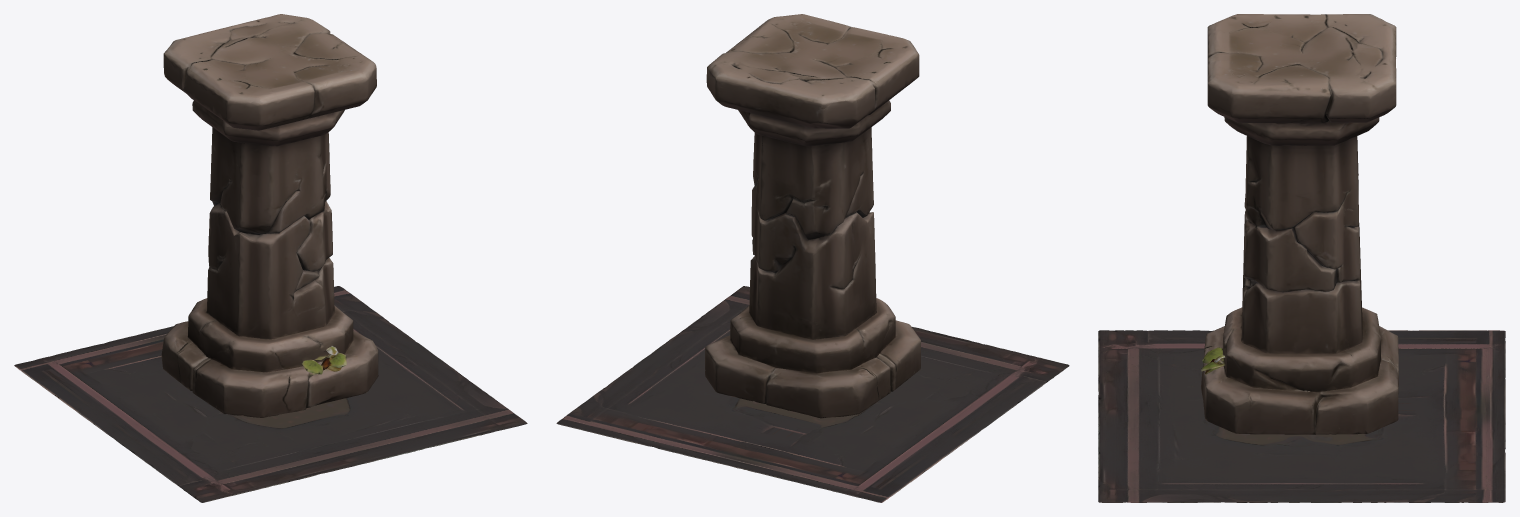
The model's file is ruin_pillar_t1.glb.
3 views of the same model, side by side, from view 1: azimuth 30°, elevation 25°; view 2: azimuth 150°, elevation 25°; view 3: azimuth 270°, elevation 25° (orthographic). The views are drawn at different scales.
Parts seen in each view (by area): view 1: geometry_0; view 2: geometry_0; view 3: geometry_0.
Boxes of the visible parts, x1=… form: geometry_0: x1=14, y1=14, x2=527, y2=502; geometry_0: x1=556, y1=14, x2=1069, y2=502; geometry_0: x1=1098, y1=14, x2=1505, y2=502.
Bounding box in the file's own units: 1 × 0.995 × 1.
Materials: 1 (1 with a texture image).
